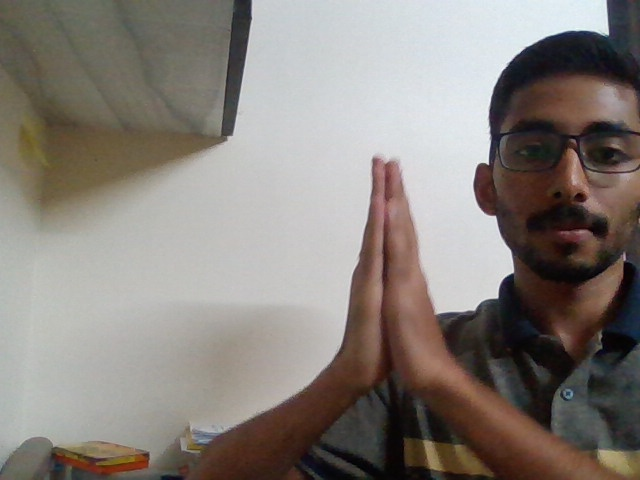Thank You: (312, 139, 471, 423)
